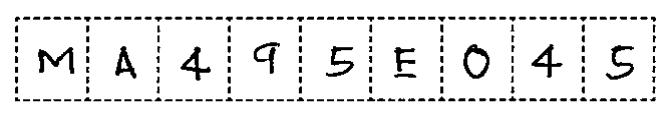0: (457, 38, 496, 84)
4: (173, 42, 217, 84), (526, 40, 566, 83)
5: (598, 42, 640, 86), (321, 40, 358, 82)
9: (248, 37, 285, 79)
A: (109, 42, 144, 85)
E: (384, 41, 425, 86)
M: (29, 40, 81, 82)
